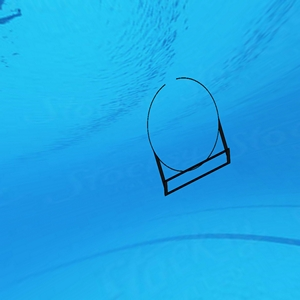circle: (142, 75, 233, 199)
